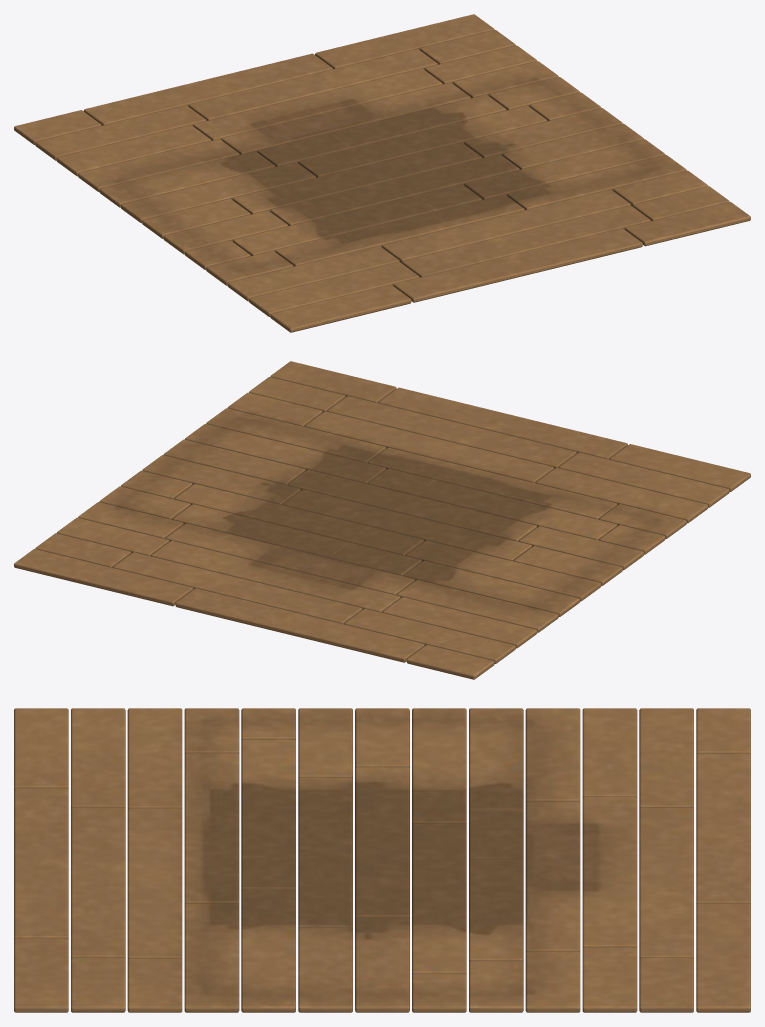
Rendered from floor_planks.glb.
3 renders of one model, top to bottom at view 1: azimuth 30°, elevation 25°; view 2: azimuth 150°, elevation 25°; view 3: azimuth 270°, elevation 25°, orthographic. The views are drawn at different scales.
Visible parts, largest first — view 1: floor_planks_wood; view 2: floor_planks_wood; view 3: floor_planks_wood.
Part boxes in pixels (x1=…): floor_planks_wood: x1=14, y1=14, x2=750, y2=332; floor_planks_wood: x1=14, y1=361, x2=750, y2=679; floor_planks_wood: x1=14, y1=708, x2=750, y2=1012.
Size of the model in its own units: 3.99 by 0.04 by 4.15.
Materials: 1 (1 with a texture image).
